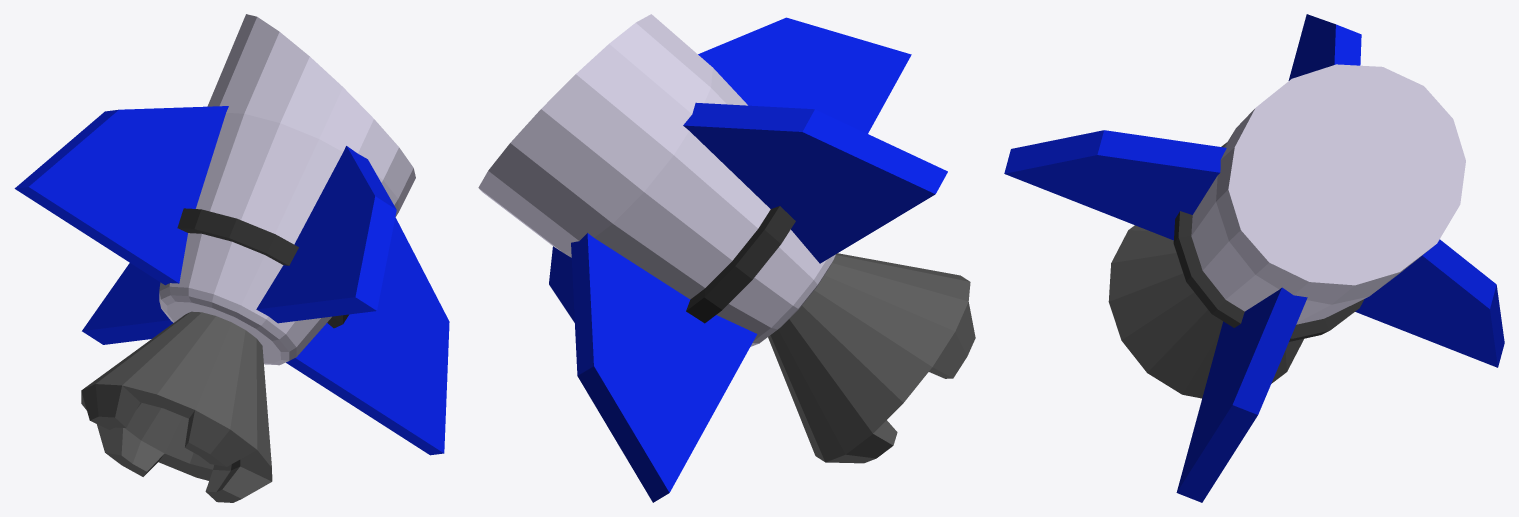
The model's file is bottom_broken_ship.fbx.
3 views of the same model, side by side, from view 1: azimuth 30°, elevation 25°; view 2: azimuth 150°, elevation 25°; view 3: azimuth 270°, elevation 25° (orthographic). The views are drawn at different scales.
Visible parts, largest first — view 1: SpaceRocket; view 2: SpaceRocket; view 3: SpaceRocket.
Boxes of the visible parts, x1,y1,x2,y2 form: SpaceRocket: [14, 14, 449, 502]; SpaceRocket: [478, 14, 975, 502]; SpaceRocket: [1004, 14, 1504, 502].
Bounding box in the file's own units: 1490 × 1460 × 1666.
